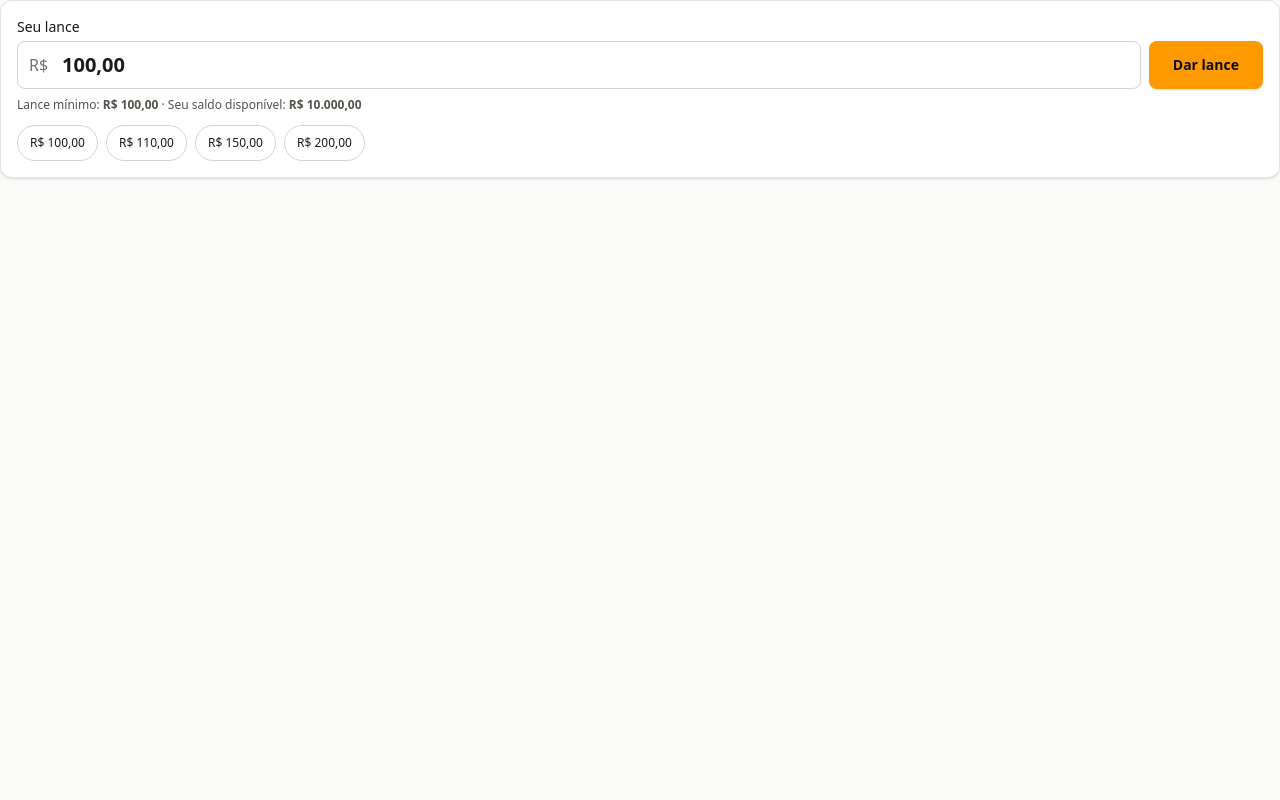
Test: BidPanel › lance estendido pelo anti-sniping avisa em um segundo aviso
Click the button "Dar lance".
click(1206, 65)  # box 1149,41 -> 1263,89
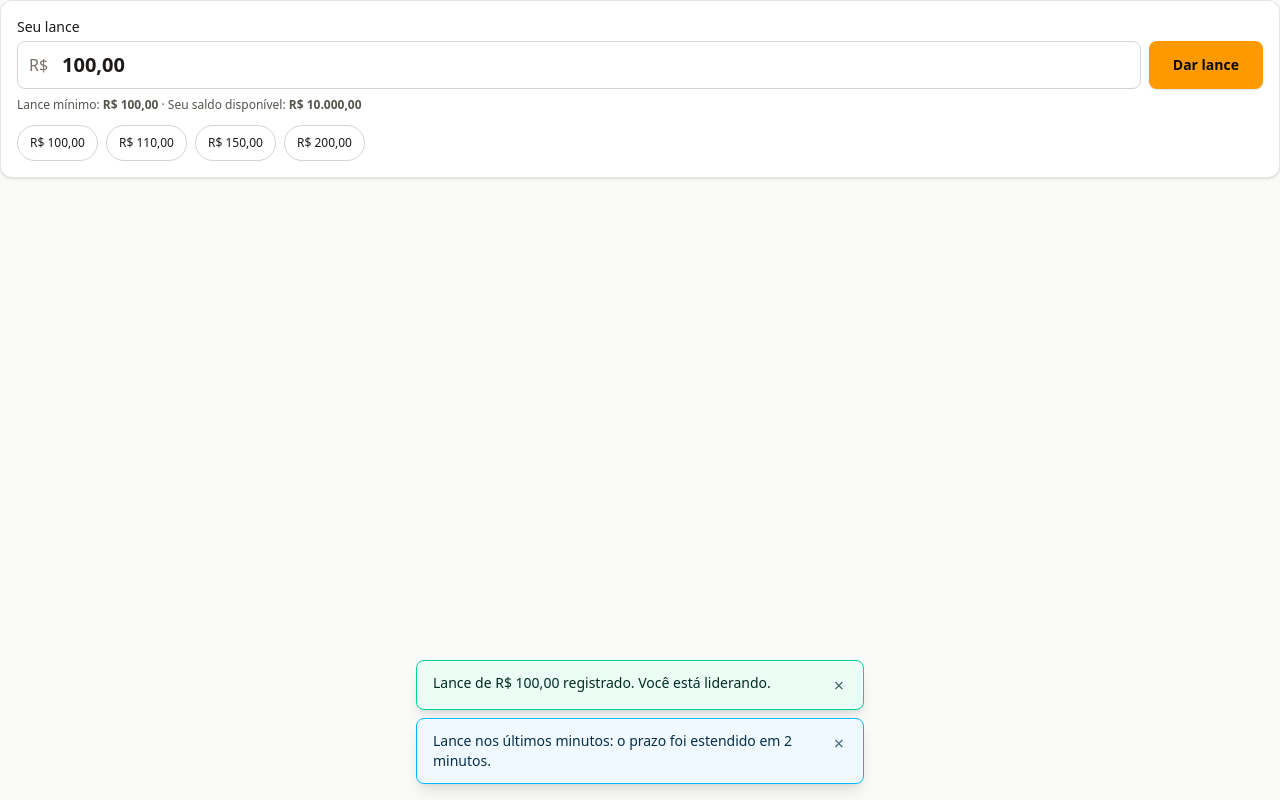
Expected: the text "prazo foi estendido em 2 minutos" is shown, 433,731 -> 792,770
